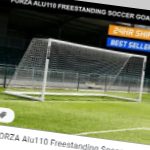goals: (3, 38, 147, 105)
